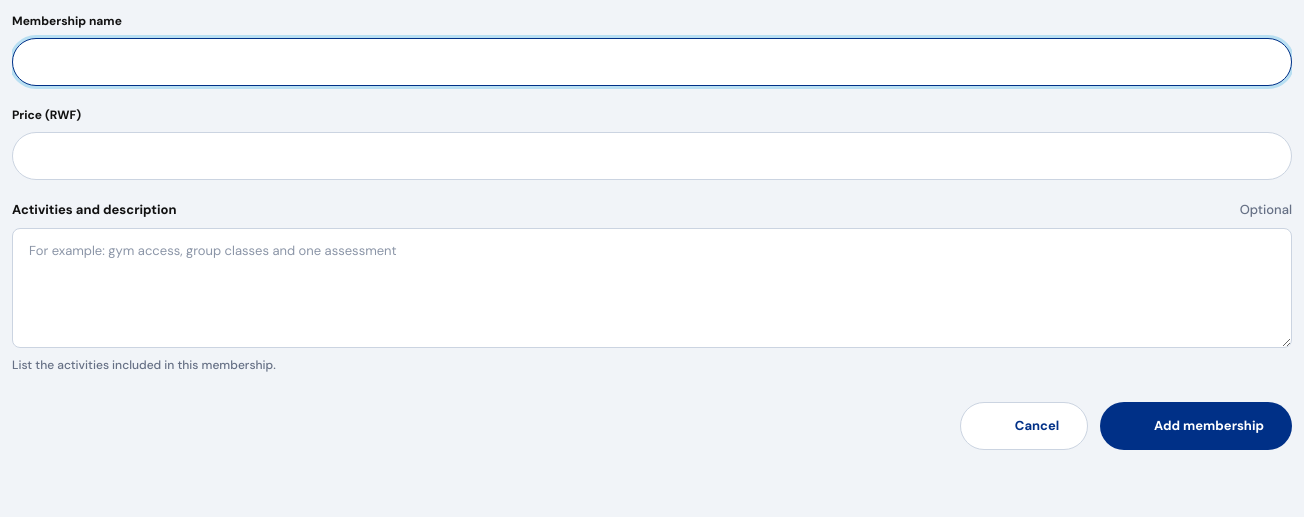
Test: membership form › shows inline errors and does not submit invalid details
Click the button "Add membership" at (1196, 426), box [1100,402,1292,450]
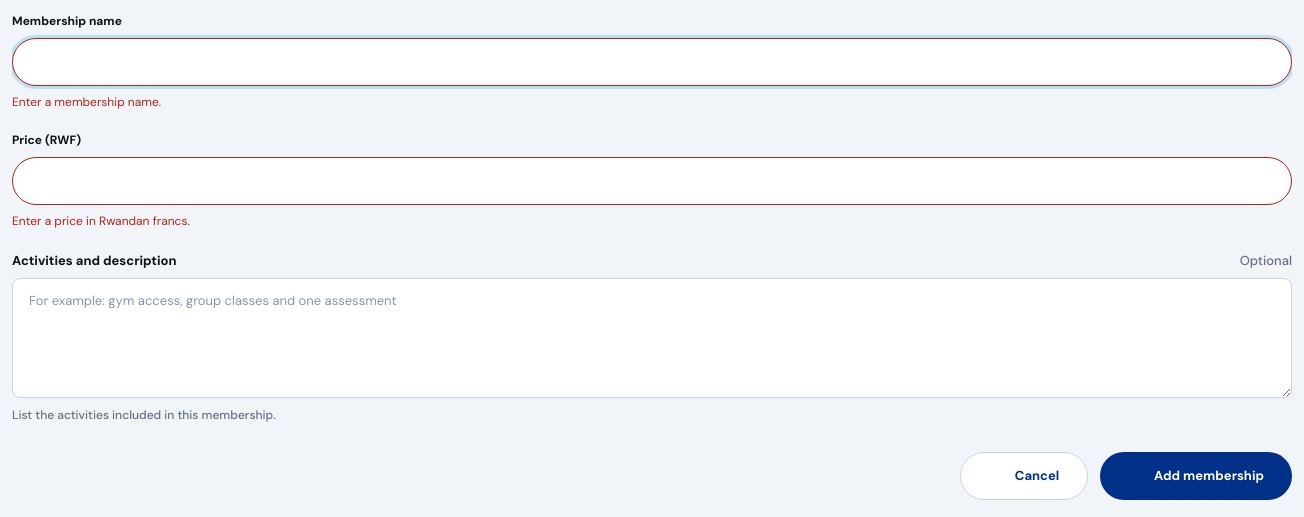
Check: the text "Enter a membership name." is shown, box [12,94,161,110]
Check: the text "Enter a price in Rwandan francs." is shown, box [12,213,190,229]
